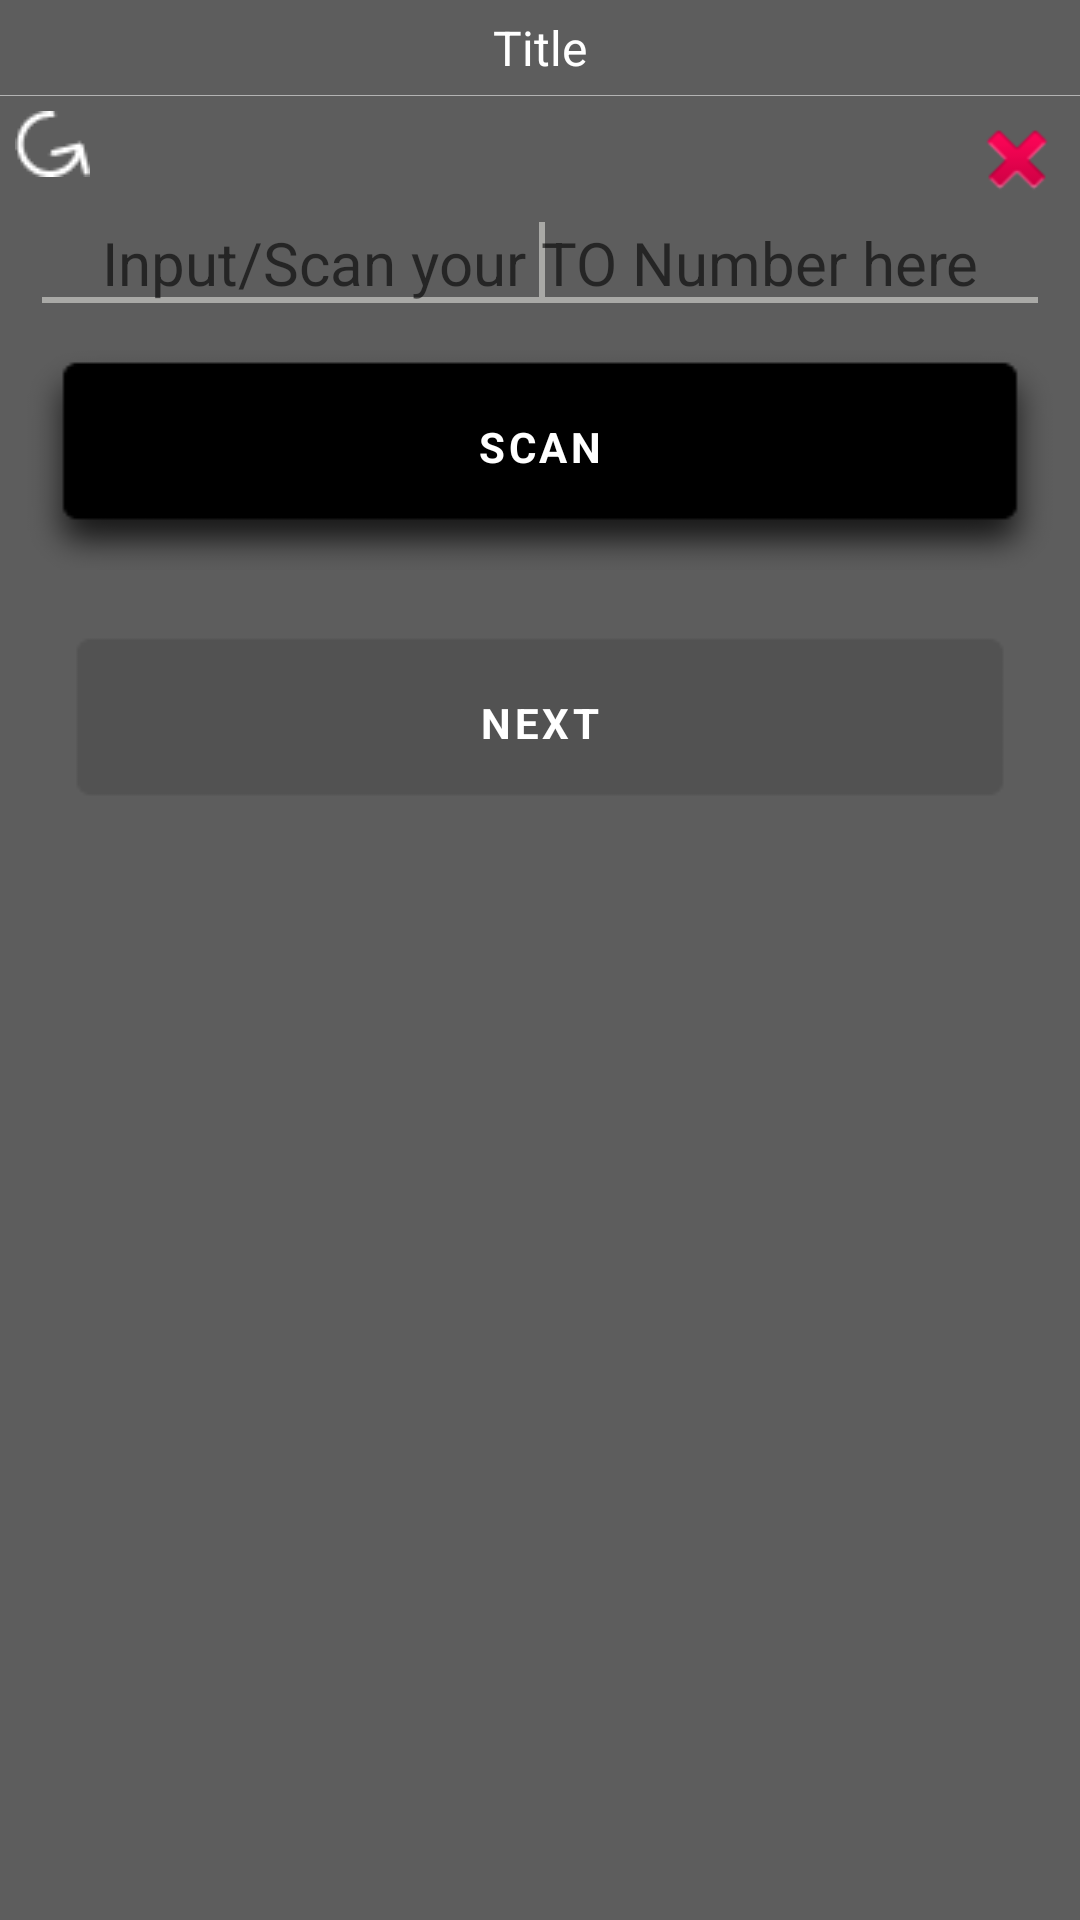

Screen size 1080px×1920px. Icon name, then its box in pixels as (x1, y1, x2, y2):
delete: (987, 130, 1047, 189)
reset: (15, 111, 90, 177)
